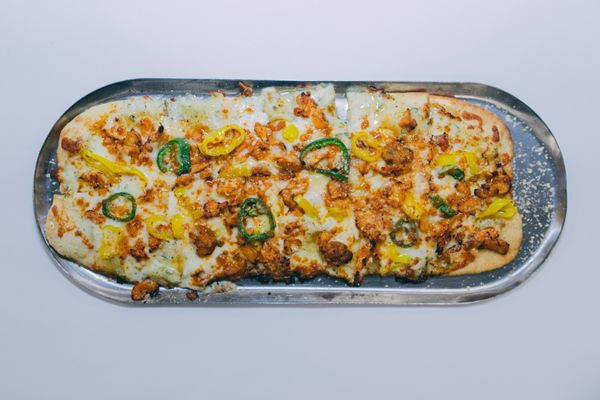sandwich: (36, 81, 530, 292)
